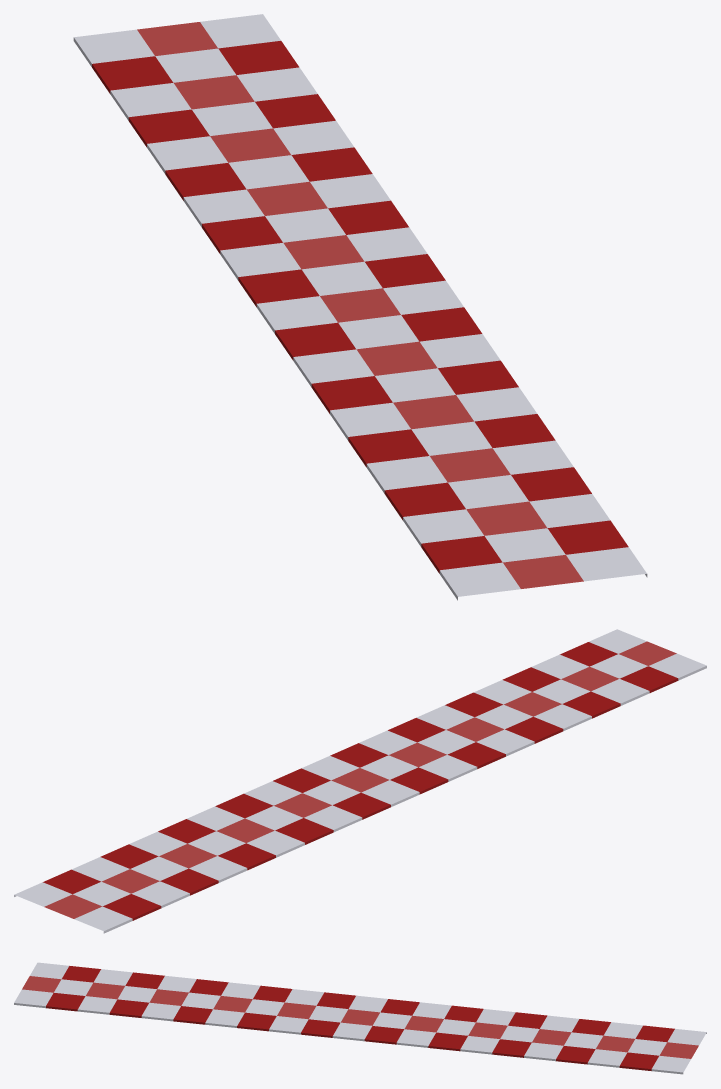
Rendered from ds_mario_circuit_start.glb.
The picture shows the model from 3 angles, top to bottom: view 1: azimuth 30°, elevation 25°; view 2: azimuth 150°, elevation 25°; view 3: azimuth 270°, elevation 25°; orthographic projection. The views are drawn at different scales.
Parts seen in each view (by area): view 1: Object_41; view 2: Object_41; view 3: Object_41.
Part boxes in pixels (bbox=[...]): Object_41: bbox=[73, 14, 647, 600]; Object_41: bbox=[14, 629, 706, 933]; Object_41: bbox=[14, 962, 706, 1074].
Size of the model in its own units: 12.49 by 0.105 by 33.25.
1 material, 1 textured.
